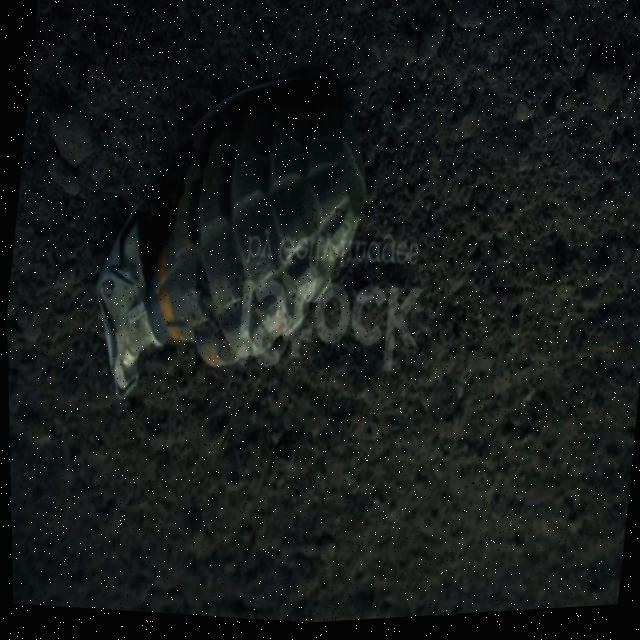grenade: (65, 26, 392, 435)
